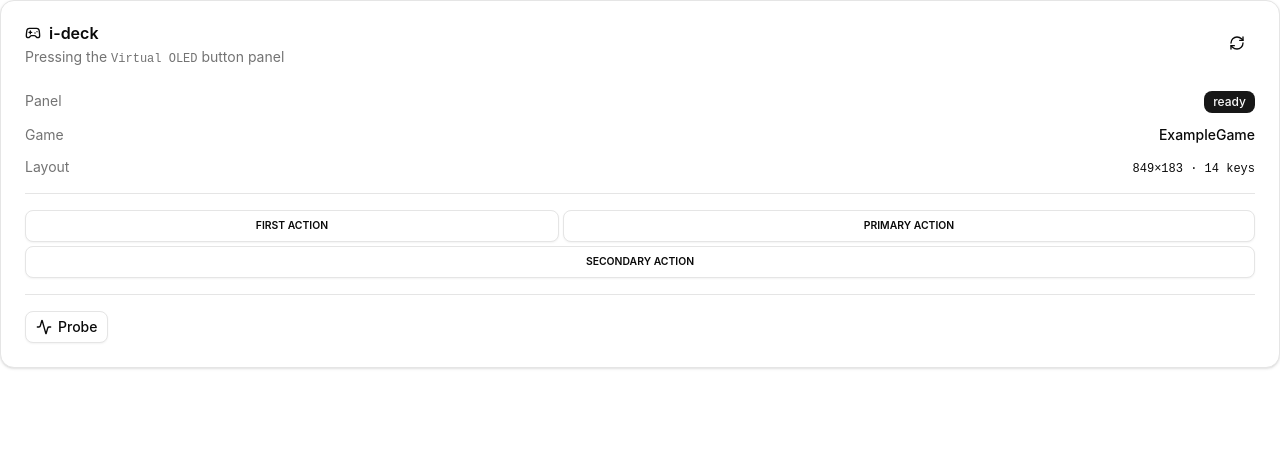
Test: IDeckPanel › reports a failed press rather than looking successful
Click the button "PRIMARY ACTION" at {"x": 909, "y": 226}, box [563, 210, 1255, 242]
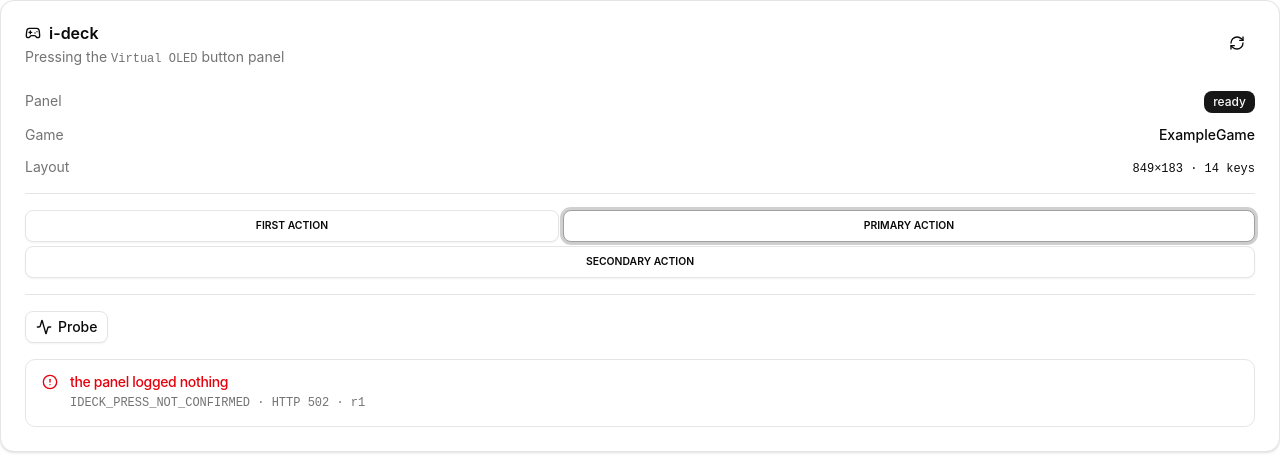
Check: the message shows "the panel logged nothing", box [70, 373, 228, 390]
